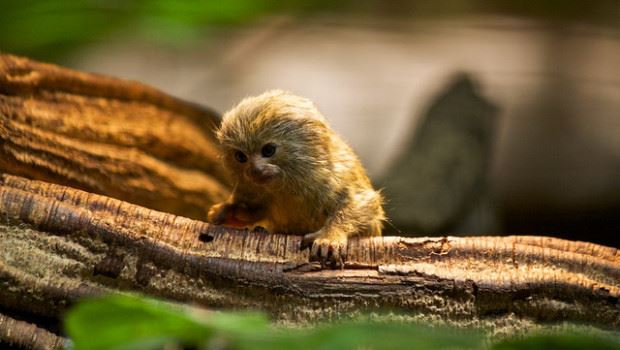PygmyMarmoset: (220, 93, 385, 238)
